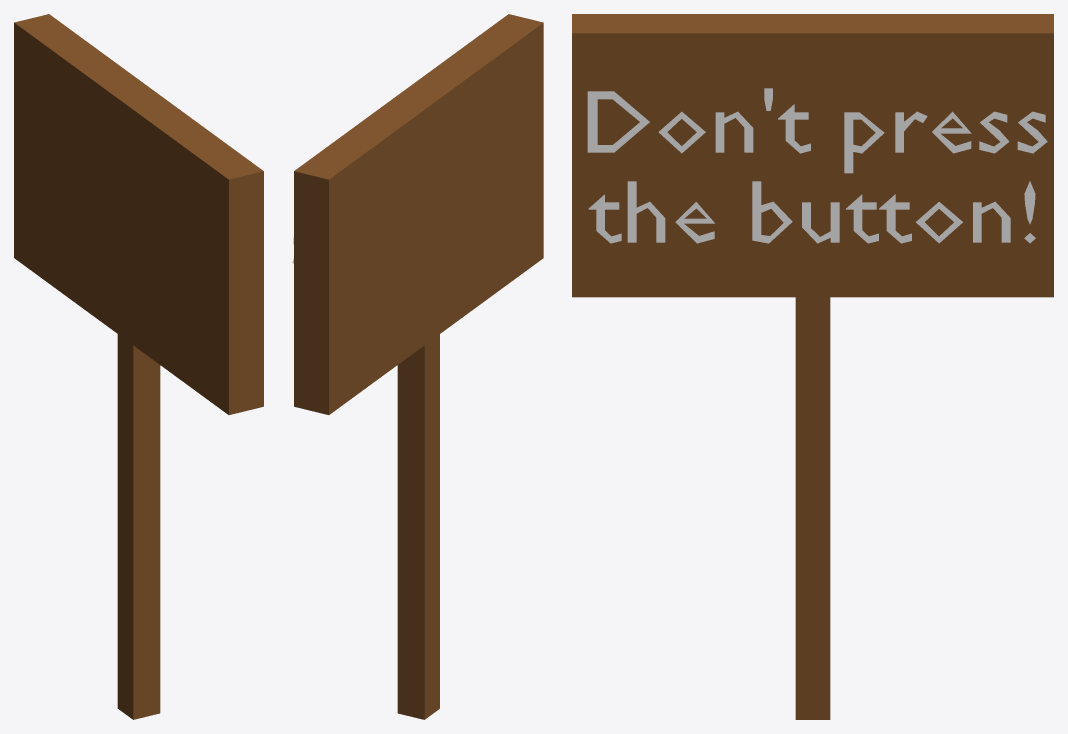
The model's file is sign.glb.
3 views of the same model, side by side, from view 1: azimuth 30°, elevation 25°; view 2: azimuth 150°, elevation 25°; view 3: azimuth 270°, elevation 25° (orthographic). The views are drawn at different scales.
Parts seen in each view (by area): view 1: Cube.001, Cube; view 2: Cube.001, Cube; view 3: Cube.001, Cube, Text.
Part boxes in pixels (x1,y1,x2,y2): Cube.001: [14, 14, 263, 414]; Cube: [117, 334, 160, 719]; Cube.001: [294, 14, 543, 414]; Cube: [397, 334, 439, 719]; Cube.001: [572, 14, 1053, 297]; Cube: [795, 297, 830, 719]; Text: [587, 88, 1047, 243].
Bounding box in the file's own units: 0.2125 × 3.16 × 2.
